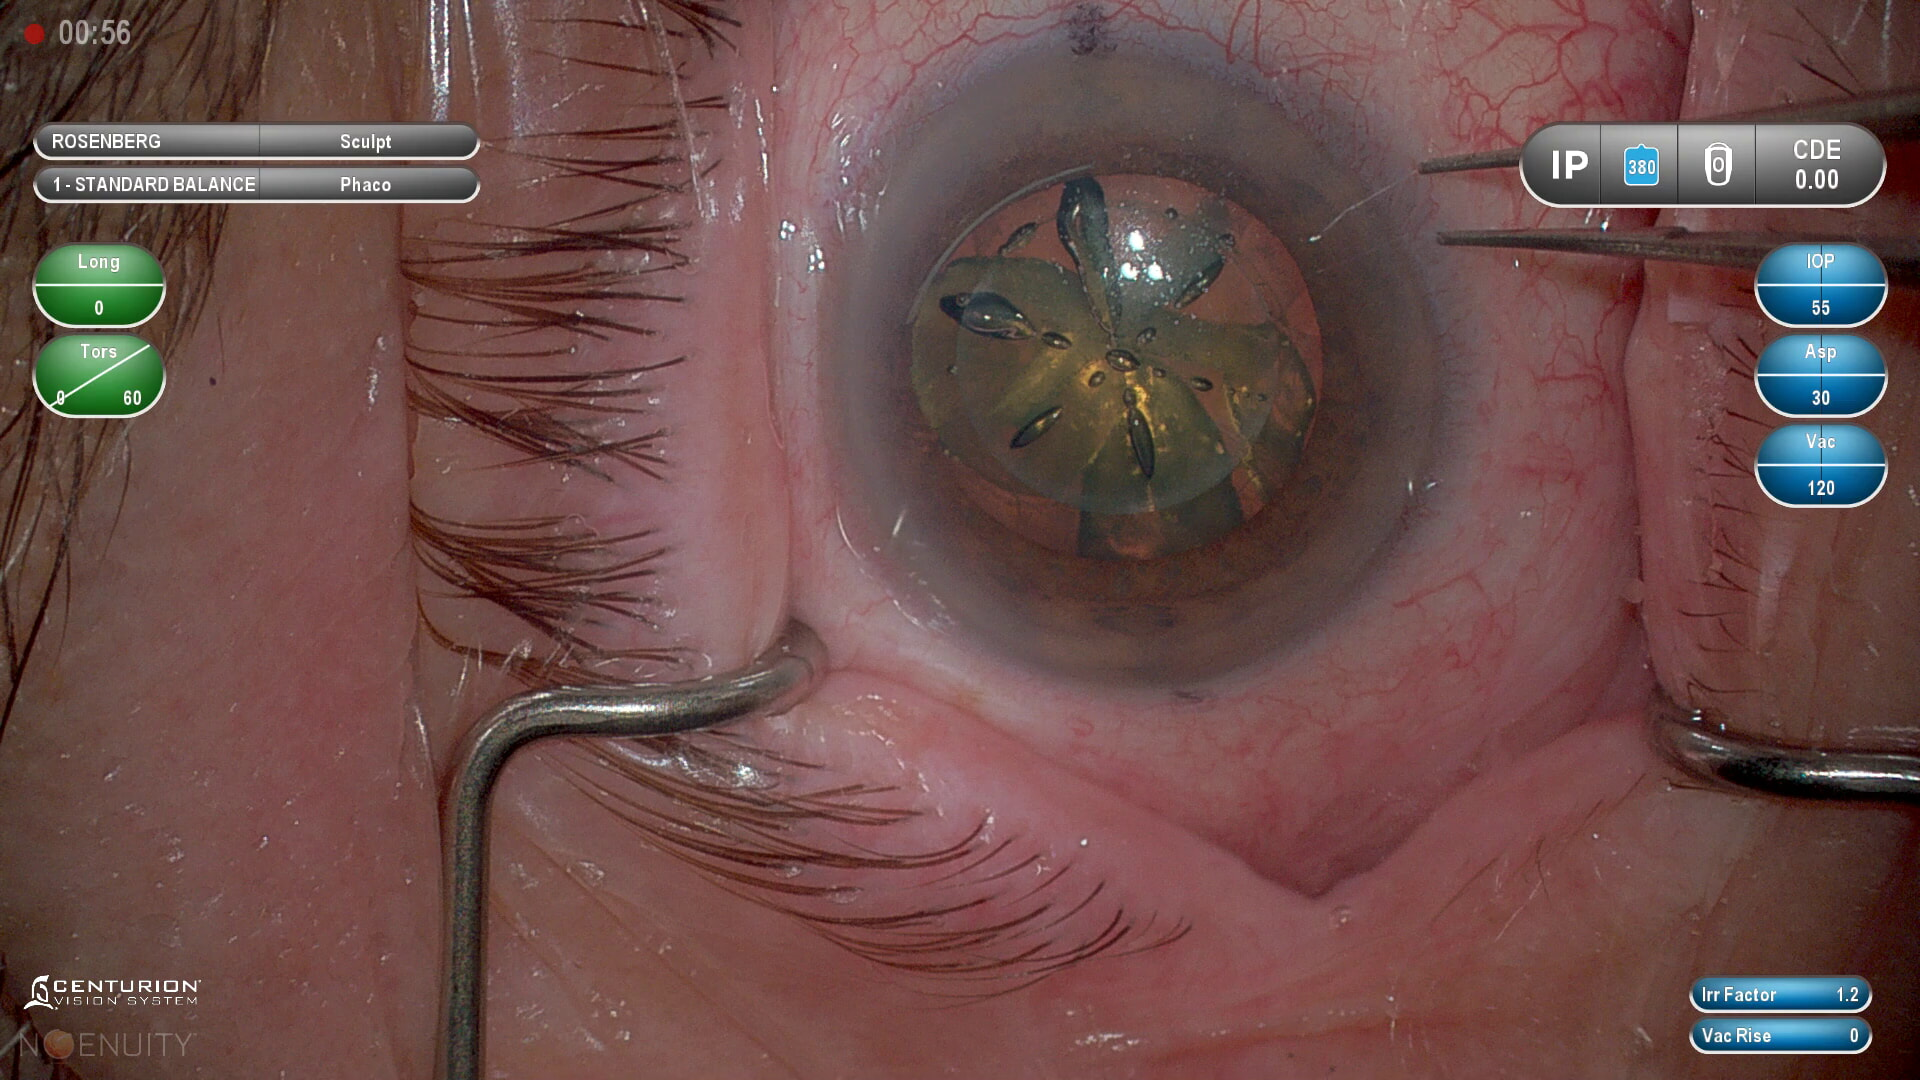iris: (835, 51, 1464, 682)
pupil: (906, 168, 1372, 590)
